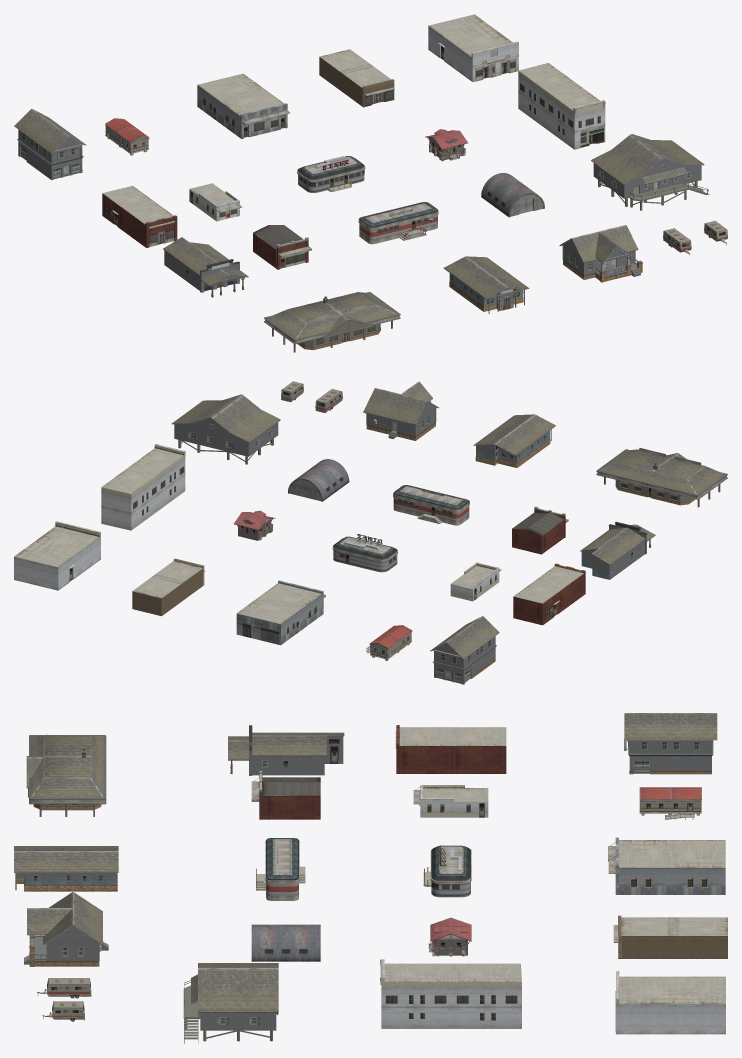
The model's file is b_rural.glb.
3 renders of one model, top to bottom at view 1: azimuth 30°, elevation 25°; view 2: azimuth 150°, elevation 25°; view 3: azimuth 270°, elevation 25°, orthographic. The views are drawn at different scales.
Parts seen in each view (by area): view 1: Rural_WoodenBuilding_1, Rural_WoodenBuilding_4_Rural_Housetrim_1_0, Rural_StoreSmall_4_Rural_Midcity_Walls_FLR_1_0, Rural_StoreSmall_6_Rural_Facade_FLR_2_0, Rural_StoreSmall_4_Rural_Facade_FLR_2_0, Rural_StoreSmall_8_Rural_Facade_FLR_2_0, Rural_WoodenBuilding_2_Rural_Housetrim_1_0, Rural_WoodenBuilding_3_Rural_Housetrim_1_0, Rural_WoodenBuilding_5_Rural_Housetrim_1_0, Rural_Diner_1_Rural_Facade_FLR_2_0, Rural_StoreSmall_8_Rural_Midcity_Walls_FLR_1_0, Rural_StoreSmall_2_Material #0_0 (+19 smaller); view 2: Rural_WoodenBuilding_1, Rural_WoodenBuilding_4_Rural_Housetrim_1_0, Rural_StoreSmall_4_Rural_Midcity_Walls_FLR_1_0, Rural_WoodenBuilding_2_Rural_Housetrim_1_0, Rural_WoodenBuilding_3_Rural_Housetrim_1_0, Rural_StoreSmall_8_Rural_Facade_FLR_2_0, Rural_WoodenBuilding_5_Rural_Housetrim_1_0, Rural_StoreSmall_8_Rural_Midcity_Walls_FLR_1_0, Rural_StoreSmall_6_Rural_Midcity_Facade_FLR_2_0, Rural_StoreSmall_6_Rural_Facade_FLR_2_0, Rural_StoreSmall_4_Rural_Facade_FLR_2_0, Rural_StoreSmall_1_Rural_Brownstone_Facade_Flr_6_0 (+19 smaller); view 3: Rural_WoodenBuilding_1, Rural_StoreSmall_4_Rural_Midcity_Walls_FLR_1_0, Rural_WoodenBuilding_4_Rural_Housetrim_1_0, Rural_WoodenBuilding_5_Rural_Housetrim_1_0, Rural_WoodenBuilding_3_Rural_Housetrim_1_0, Rural_StoreSmall_6_Rural_Facade_FLR_2_0, Rural_StoreSmall_4_Rural_Facade_FLR_2_0, Rural_StoreSmall_8_Rural_Midcity_Walls_FLR_1_0, Rural_WoodenBuilding_2_Rural_Housetrim_1_0, Rural_StoreSmall_8_Rural_Facade_FLR_2_0, Rural_StoreSmall_5_Rural_Brownstone_Facade_Flr_6_0, Rural_StoreSmall_6_Rural_Midcity_Facade_FLR_2_0 (+18 smaller).
Boxes of the visible parts, x1,y1,x2,y2 form: Rural_WoodenBuilding_1: (591, 134, 709, 210); Rural_WoodenBuilding_4_Rural_Housetrim_1_0: (264, 292, 400, 350); Rural_StoreSmall_4_Rural_Midcity_Walls_FLR_1_0: (518, 71, 605, 149); Rural_StoreSmall_6_Rural_Facade_FLR_2_0: (197, 73, 289, 137); Rural_StoreSmall_4_Rural_Facade_FLR_2_0: (518, 63, 605, 147); Rural_StoreSmall_8_Rural_Facade_FLR_2_0: (429, 14, 518, 81); Rural_WoodenBuilding_2_Rural_Housetrim_1_0: (559, 225, 642, 282); Rural_WoodenBuilding_3_Rural_Housetrim_1_0: (443, 256, 529, 311); Rural_WoodenBuilding_5_Rural_Housetrim_1_0: (14, 108, 86, 180); Rural_Diner_1_Rural_Facade_FLR_2_0: (358, 202, 438, 244); Rural_StoreSmall_8_Rural_Midcity_Walls_FLR_1_0: (428, 26, 518, 81); Rural_StoreSmall_2_Material #0_0: (163, 237, 248, 297); Rural_WoodenBuilding_1: (171, 394, 280, 464); Rural_WoodenBuilding_4_Rural_Housetrim_1_0: (596, 449, 727, 505); Rural_StoreSmall_4_Rural_Midcity_Walls_FLR_1_0: (101, 444, 185, 530); Rural_WoodenBuilding_2_Rural_Housetrim_1_0: (363, 381, 438, 440); Rural_WoodenBuilding_3_Rural_Housetrim_1_0: (473, 414, 555, 467); Rural_StoreSmall_8_Rural_Facade_FLR_2_0: (14, 521, 100, 581); Rural_WoodenBuilding_5_Rural_Housetrim_1_0: (430, 616, 499, 684); Rural_StoreSmall_8_Rural_Midcity_Walls_FLR_1_0: (14, 532, 100, 590); Rural_StoreSmall_6_Rural_Midcity_Facade_FLR_2_0: (236, 580, 323, 645); Rural_StoreSmall_6_Rural_Facade_FLR_2_0: (237, 583, 325, 634); Rural_StoreSmall_4_Rural_Facade_FLR_2_0: (101, 444, 185, 515); Rural_StoreSmall_1_Rural_Brownstone_Facade_Flr_6_0: (512, 507, 565, 554); Rural_WoodenBuilding_1: (183, 963, 278, 1043); Rural_StoreSmall_4_Rural_Midcity_Walls_FLR_1_0: (381, 959, 521, 1028); Rural_WoodenBuilding_4_Rural_Housetrim_1_0: (26, 735, 106, 810); Rural_WoodenBuilding_5_Rural_Housetrim_1_0: (624, 713, 717, 774); Rural_WoodenBuilding_3_Rural_Housetrim_1_0: (14, 846, 118, 891); Rural_StoreSmall_6_Rural_Facade_FLR_2_0: (608, 840, 725, 887); Rural_StoreSmall_4_Rural_Facade_FLR_2_0: (380, 959, 521, 1020); Rural_StoreSmall_8_Rural_Midcity_Walls_FLR_1_0: (616, 999, 725, 1034); Rural_WoodenBuilding_2_Rural_Housetrim_1_0: (27, 892, 102, 966); Rural_StoreSmall_8_Rural_Facade_FLR_2_0: (615, 971, 725, 1032); Rural_StoreSmall_5_Rural_Brownstone_Facade_Flr_6_0: (396, 725, 506, 773); Rural_StoreSmall_6_Rural_Midcity_Facade_FLR_2_0: (615, 837, 725, 894).
Bounding box in the file's own units: 126 × 10.73 × 130.
9 materials, 9 textured.
